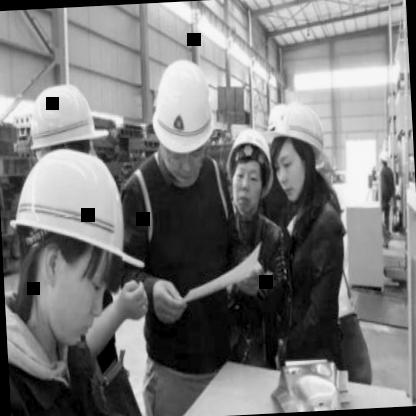helmet: (7, 145, 142, 343), (21, 78, 112, 180), (148, 58, 218, 186), (264, 99, 332, 202), (224, 124, 275, 224)
